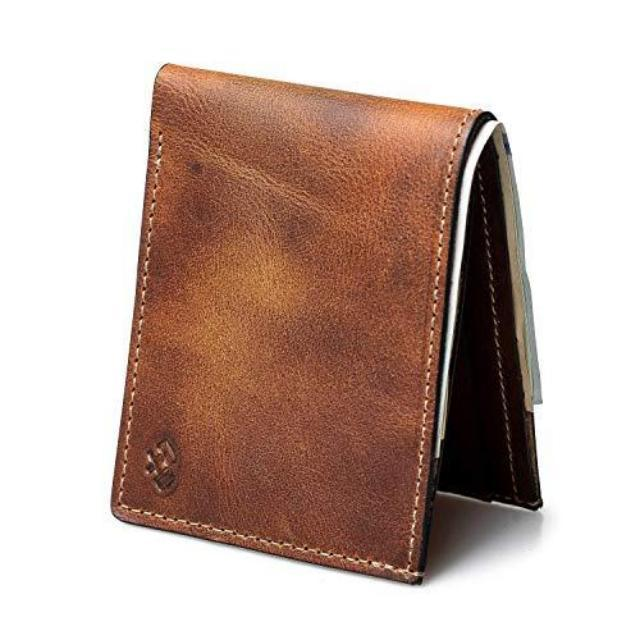wallet: (107, 57, 548, 586)
